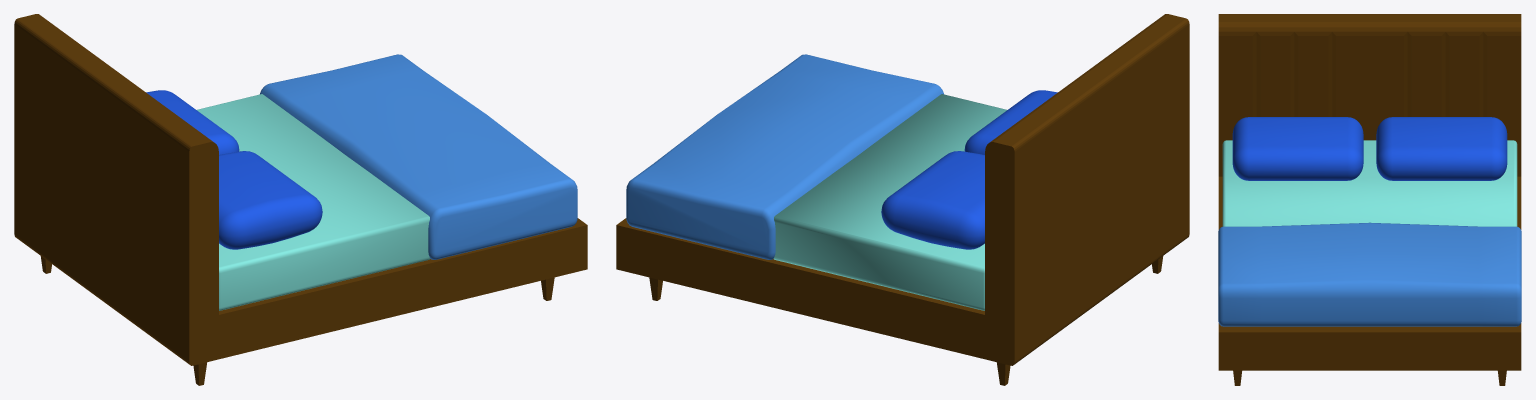
File: Bed.fbx
3 renders of one model, left to right at view 1: azimuth 30°, elevation 25°; view 2: azimuth 150°, elevation 25°; view 3: azimuth 270°, elevation 25°, orthographic. The views are drawn at different scales.
Visible parts, largest first — view 1: Plane; view 2: Plane; view 3: Plane.
Boxes of the visible parts, x1,y1,x2,y2 form: Plane: (14,14,587,385); Plane: (616,14,1189,385); Plane: (1218,14,1521,385).
Bounding box in the file's own units: 275 × 165 × 210.
